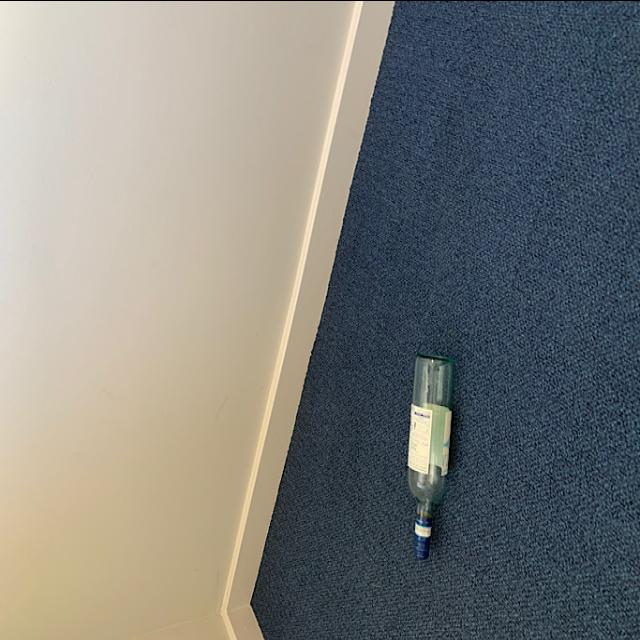Glass Bottle: (406, 350, 462, 564)
